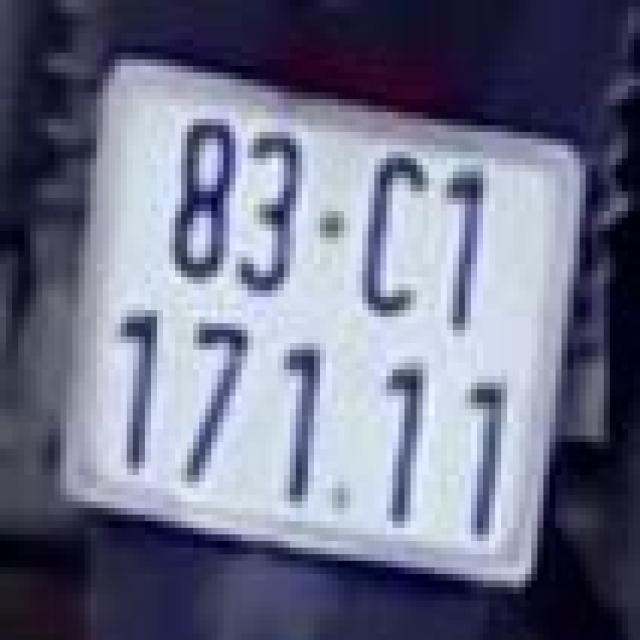1: (432, 138, 498, 330), (453, 366, 525, 538), (109, 281, 169, 478), (269, 313, 323, 505), (377, 346, 420, 518), (426, 515, 432, 521)
3: (244, 119, 305, 297)
7: (169, 287, 254, 485)
8: (160, 109, 232, 287)
C: (350, 138, 429, 330)
